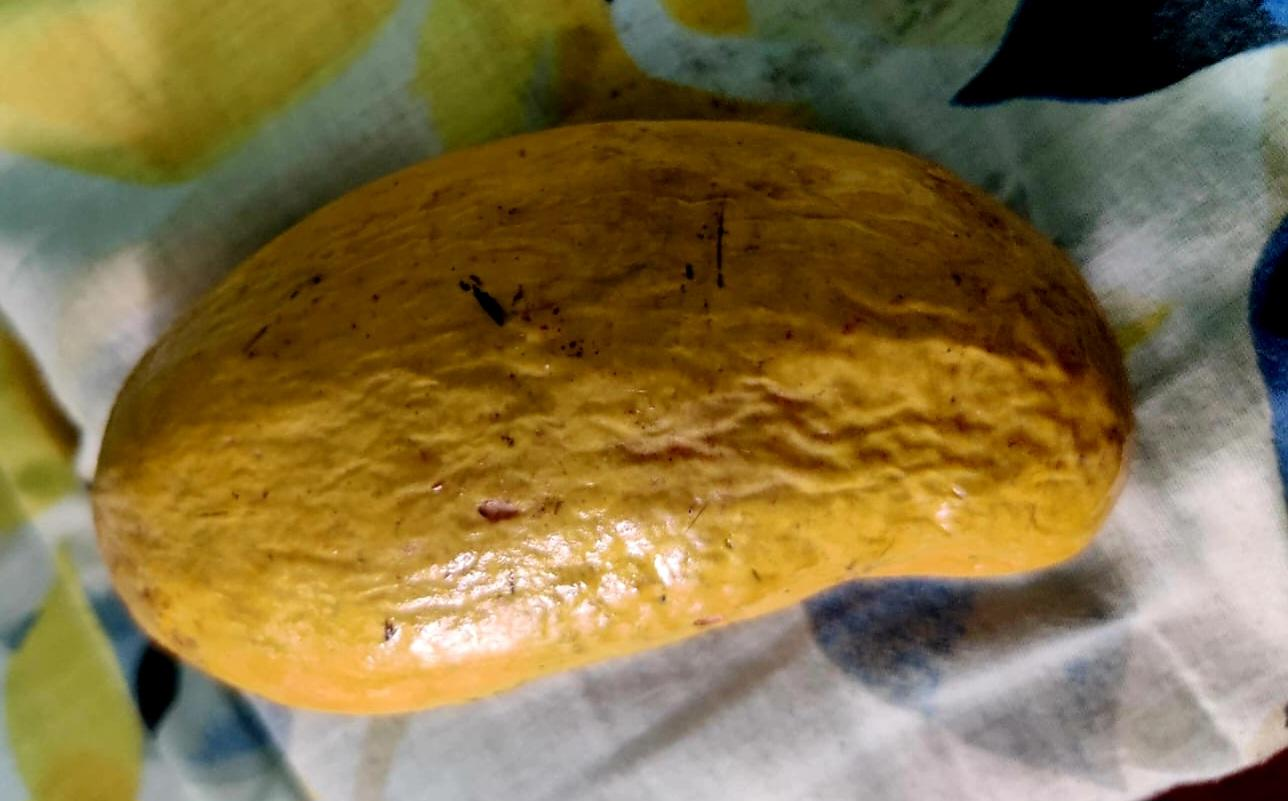mango: (87, 116, 1135, 715)
